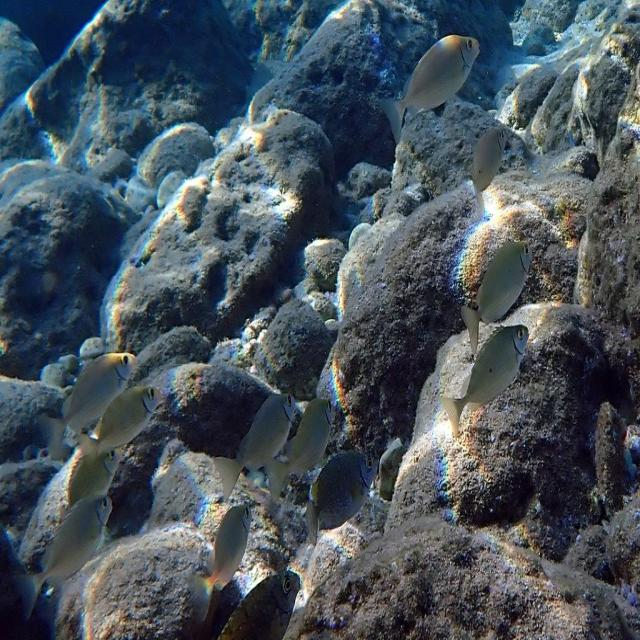Sokar Baligi: (8, 488, 117, 630), (373, 21, 488, 152), (37, 332, 142, 471), (439, 320, 537, 443), (208, 385, 302, 506)
